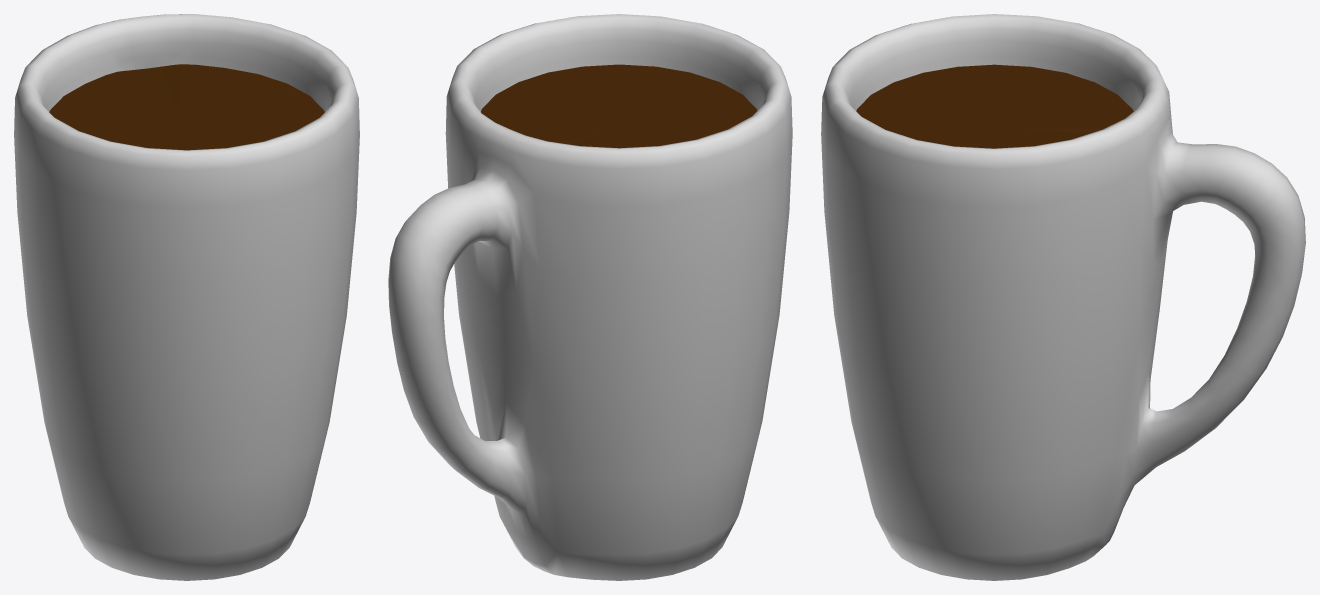
File: Mug_Model.fbx
The picture shows the model from 3 angles, left to right: view 1: azimuth 30°, elevation 25°; view 2: azimuth 150°, elevation 25°; view 3: azimuth 270°, elevation 25°; orthographic projection.
Visible parts, largest first — view 1: Mug, MugCoffee; view 2: Mug, MugCoffee; view 3: Mug, MugCoffee.
Part boxes in pixels (box(x1,y1,x2,y2)): Mug: box(14, 14, 359, 580); MugCoffee: box(49, 64, 324, 150); Mug: box(388, 14, 792, 580); MugCoffee: box(481, 64, 757, 148); Mug: box(821, 14, 1305, 580); MugCoffee: box(856, 64, 1133, 148).
Size of the model in its own units: 49.93 by 72.73 by 69.81.
